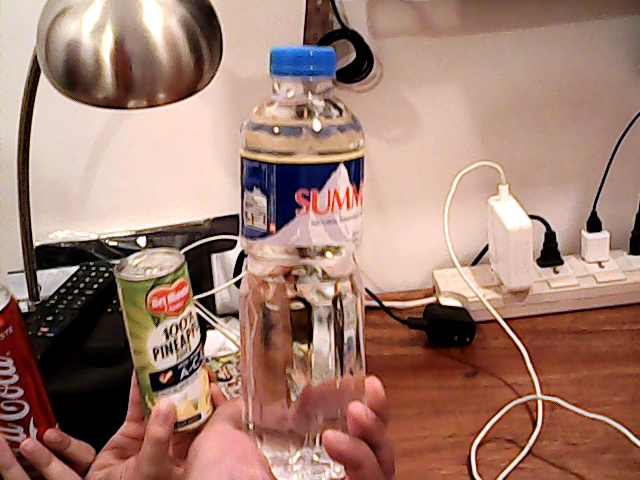Cola: (1, 299, 70, 440)
Pine Juice: (111, 244, 219, 438)
Summit Water: (234, 21, 377, 474)
